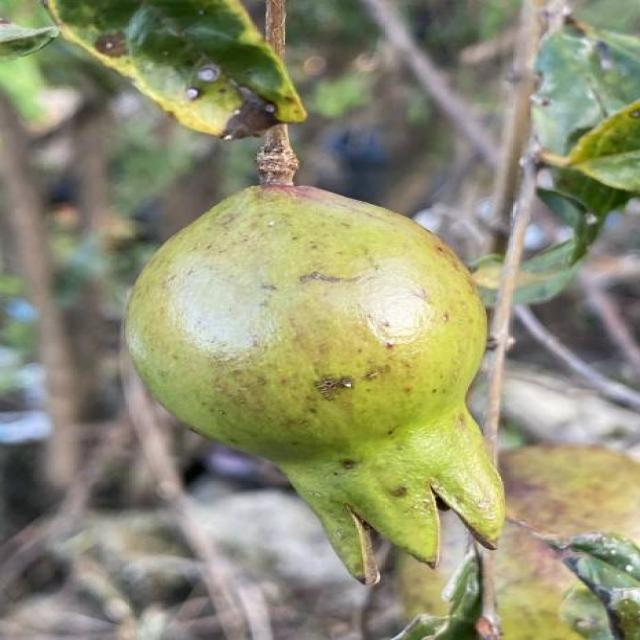Unripe: (128, 181, 502, 585)
